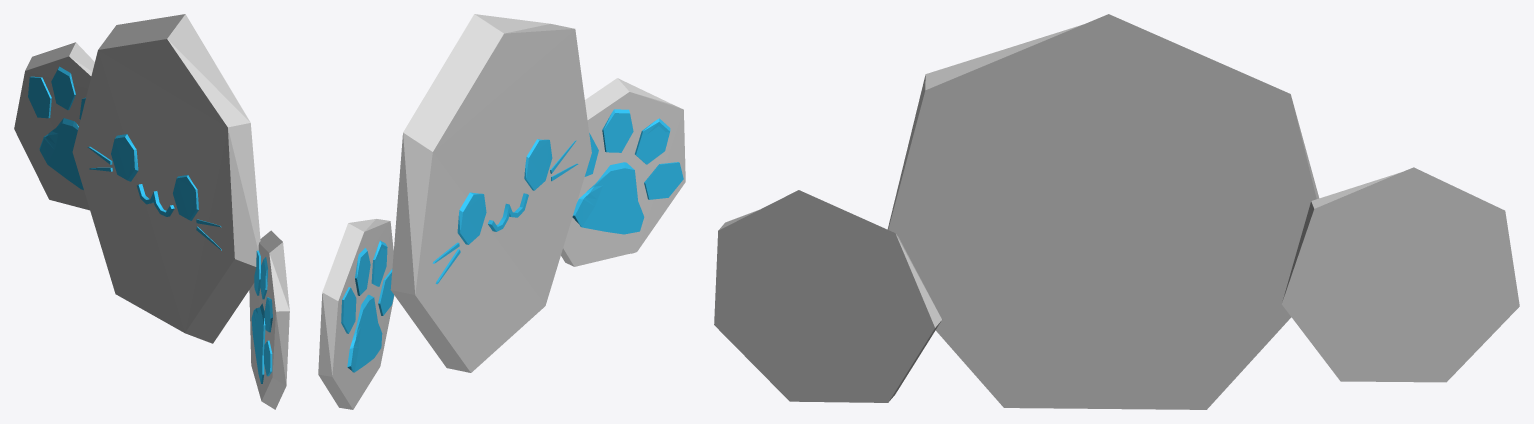
The model's file is catPillow.FBX.
3 views of the same model, side by side, from view 1: azimuth 30°, elevation 25°; view 2: azimuth 150°, elevation 25°; view 3: azimuth 270°, elevation 25° (orthographic). The views are drawn at different scales.
Parts seen in each view (by area): view 1: cat_pillows; view 2: cat_pillows; view 3: cat_pillows.
Boxes of the visible parts, left/top/right/bottom form: cat_pillows: left=14, top=14, right=289, bottom=409; cat_pillows: left=318, top=14, right=685, bottom=409; cat_pillows: left=714, top=14, right=1519, bottom=409.
Size of the model in its own units: 7.25 by 28.68 by 51.52.
